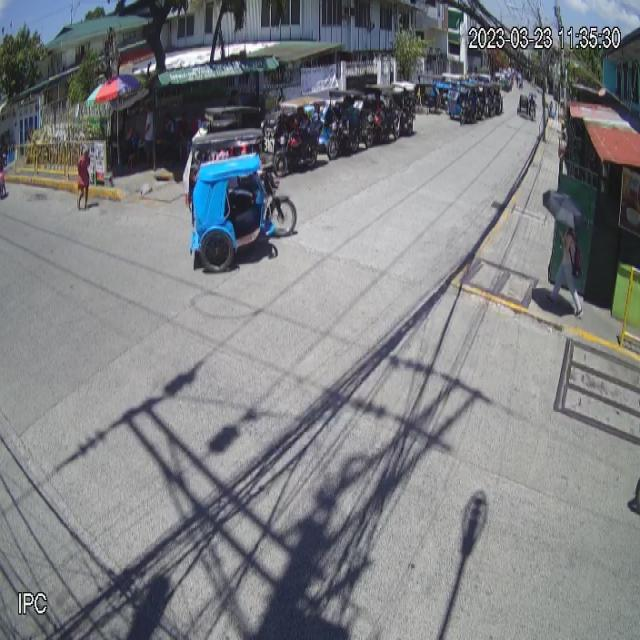Tricycle: (183, 128, 298, 273)
